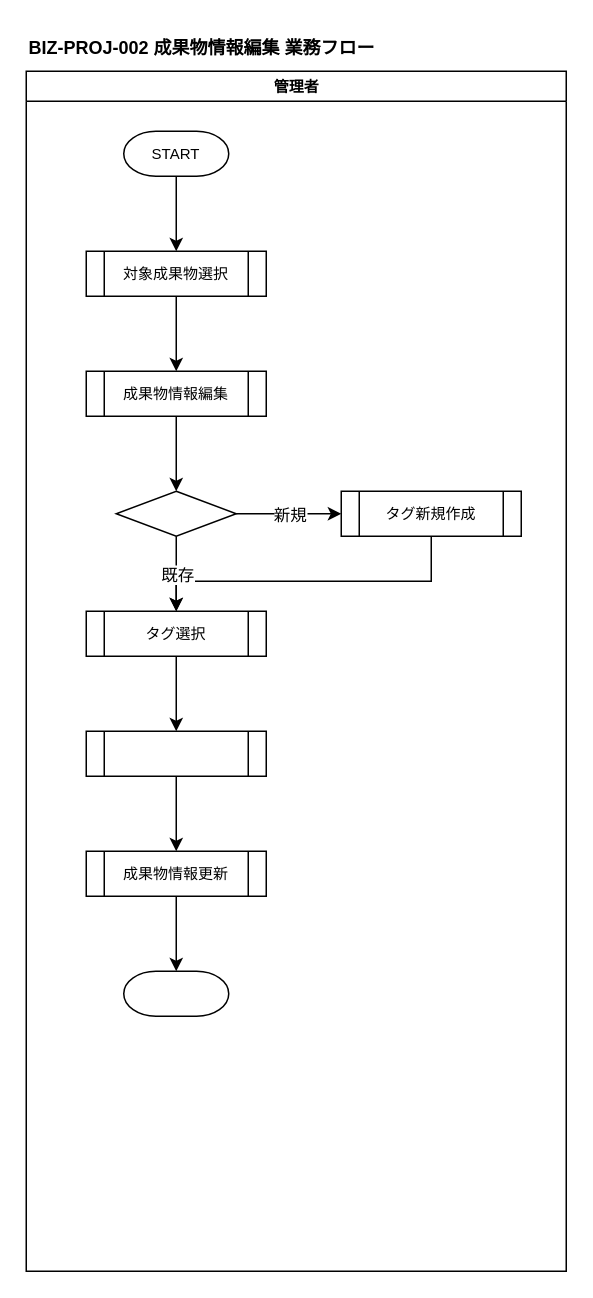
The diagram is 593 pixels wide and 1298 high, and some of its shapes have lost their labels. The shapes that lost their labels are listed below. From the top down, each one's centre as x and y in pixels, then its label:
pixel 175 513: タグ追加
pixel 175 753: プレビュー確認
pixel 175 993: END
